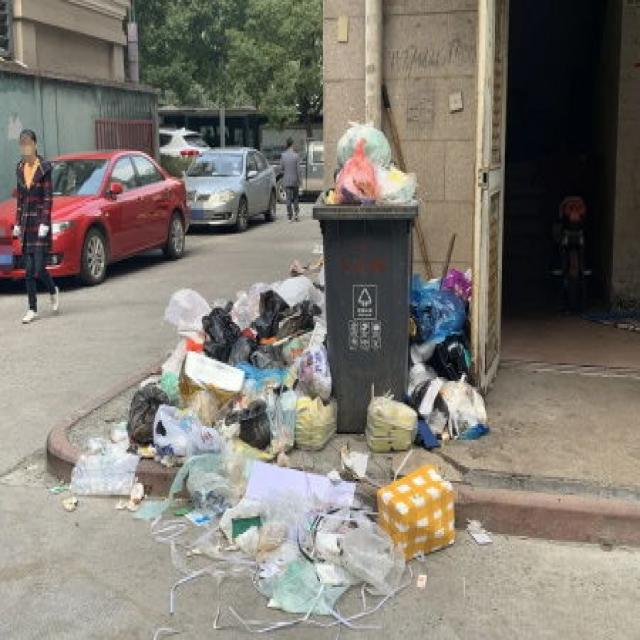garbage: (53, 255, 489, 638)
overflow: (312, 118, 418, 432)
